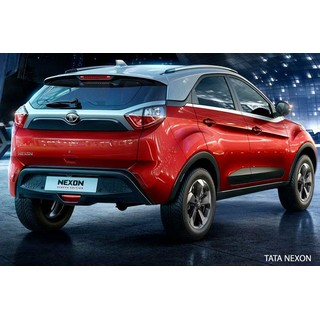car: (9, 64, 318, 241)
